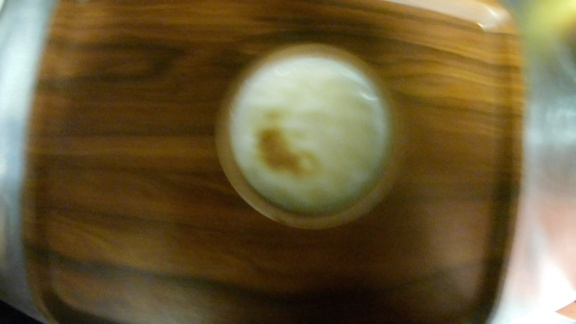sutlac: (216, 42, 404, 230)
